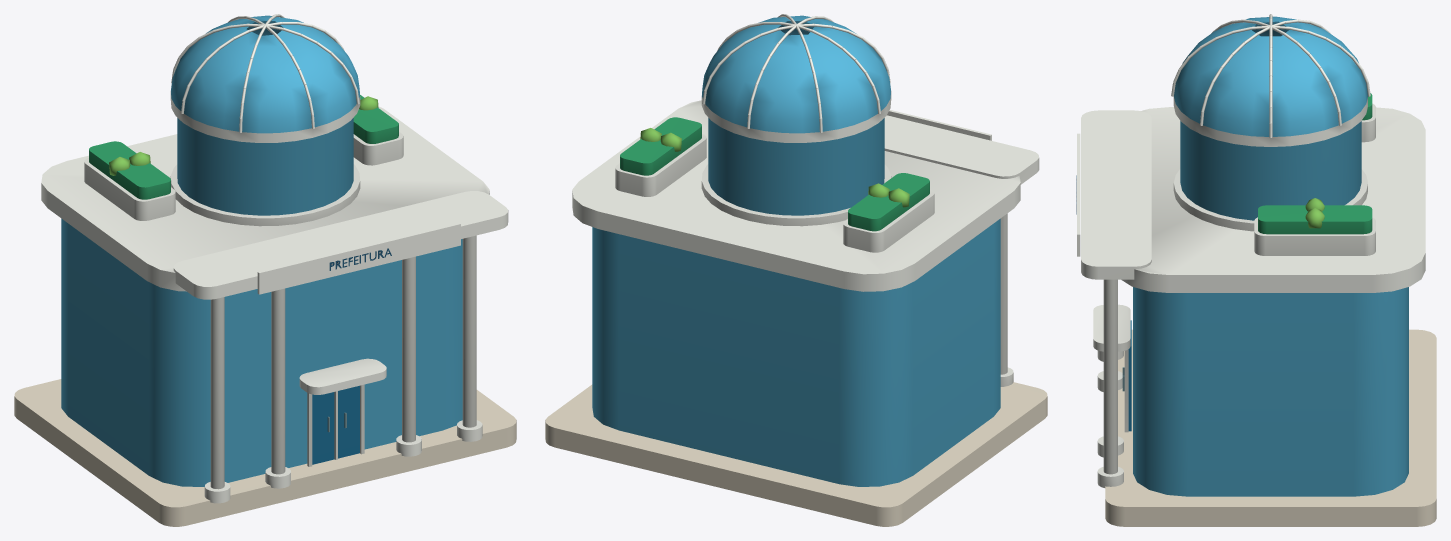
File: civic-low.glb
3 views of the same model, side by side, from view 1: azimuth 30°, elevation 25°; view 2: azimuth 150°, elevation 25°; view 3: azimuth 270°, elevation 25° (orthographic). The views are drawn at different scales.
Parts seen in each view (by area): view 1: civic glass hall, hall cornice, civic podium, planter foliage, recessed entrance, shrub tip; view 2: civic glass hall, hall cornice, civic podium, planter foliage, shrub tip; view 3: civic glass hall, hall cornice, civic podium, planter foliage, shrub tip.
Boxes of the visible parts, bbox=[...] form: civic glass hall: bbox=[61, 15, 462, 486]; hall cornice: bbox=[41, 14, 508, 503]; civic podium: bbox=[14, 379, 516, 526]; planter foliage: bbox=[89, 95, 398, 199]; recessed entrance: bbox=[312, 385, 359, 464]; shrub tip: bbox=[109, 96, 378, 175]; civic glass hall: bbox=[592, 15, 1000, 486]; hall cornice: bbox=[572, 14, 1039, 386]; civic podium: bbox=[545, 382, 1047, 526]; planter foliage: bbox=[620, 117, 929, 231]; shrub tip: bbox=[640, 128, 909, 207]; civic glass hall: bbox=[1133, 16, 1408, 496]; hall cornice: bbox=[1077, 14, 1425, 487]; civic podium: bbox=[1105, 329, 1436, 526]; planter foliage: bbox=[1258, 93, 1372, 234]; shrub tip: bbox=[1305, 198, 1324, 228].
Size of the model in its own units: 3.8 by 4.12 by 3.26.
